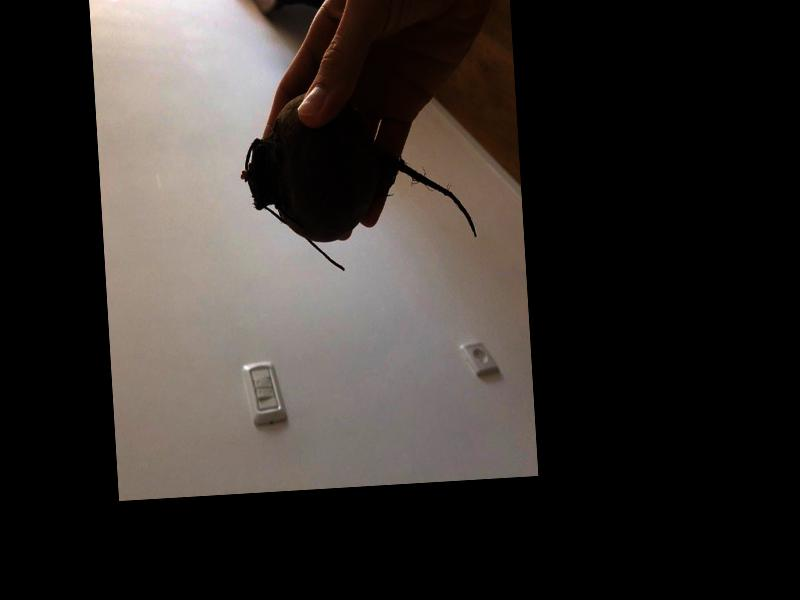Beet: (236, 82, 478, 278)
